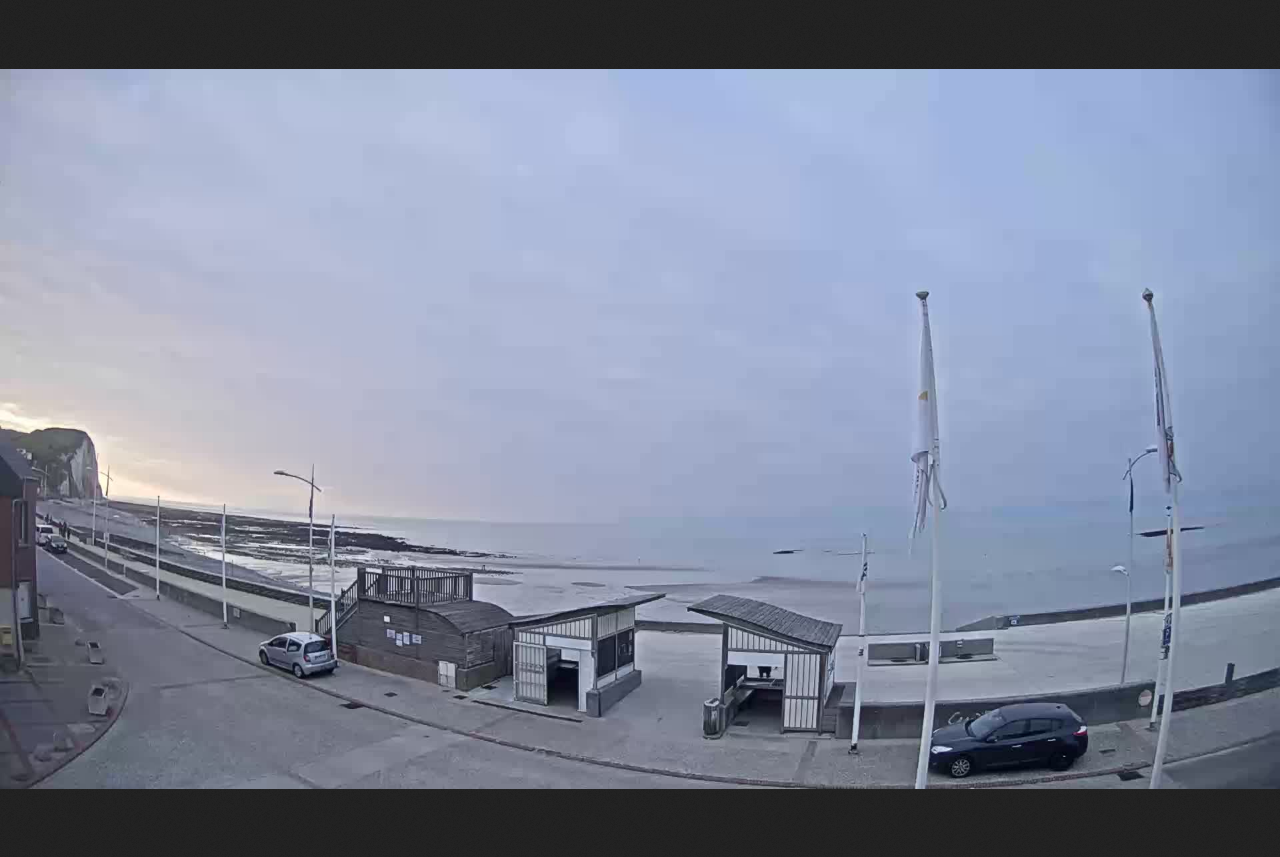no: (1148, 305, 1187, 499), (911, 308, 940, 553), (1161, 518, 1174, 576), (858, 544, 869, 601), (326, 522, 336, 570), (217, 507, 227, 550)
